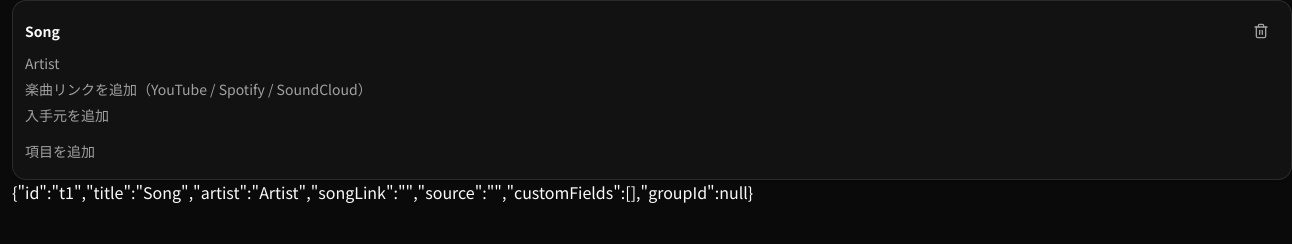
Test: TrackCard › adds a custom field
What coordinates should you click on to do the following:
click the button "項目を追加"
I would click on:
 (60, 151)
Its box is [25,135,95,167].
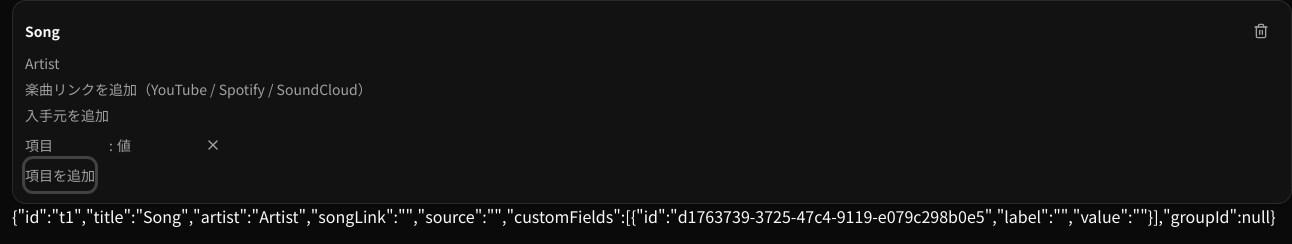
Now the field named "項目名" is shown, box [25,133,105,157]
